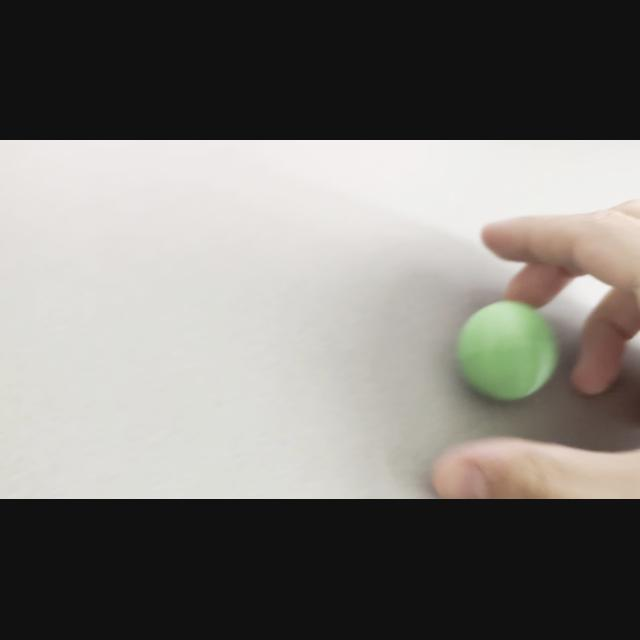objects: (446, 292, 566, 410)
